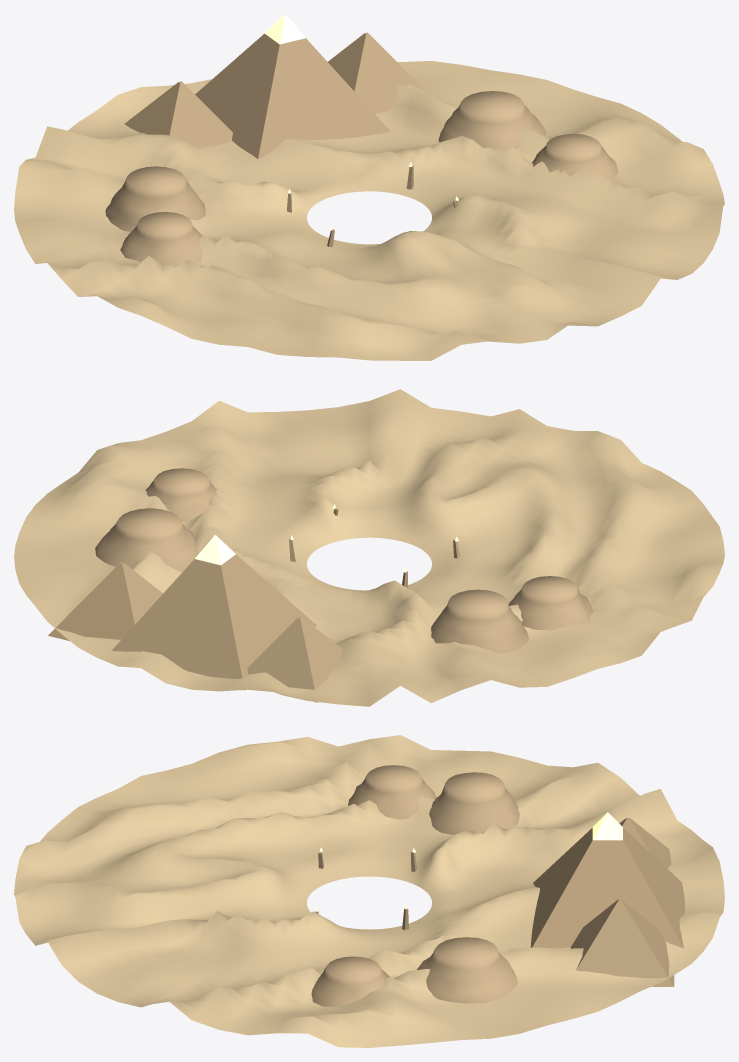
The model's file is BACKDROP.glb.
The picture shows the model from 3 angles, top to bottom: view 1: azimuth 30°, elevation 25°; view 2: azimuth 150°, elevation 25°; view 3: azimuth 270°, elevation 25°; orthographic projection.
Parts seen in each view (by area): view 1: BACKDROP; view 2: BACKDROP; view 3: BACKDROP.
Part boxes in pixels (left/top/right/bottom): BACKDROP: left=14, top=14, right=724, bottom=360; BACKDROP: left=14, top=389, right=724, bottom=706; BACKDROP: left=14, top=735, right=724, bottom=1047.
Size of the model in its own units: 352 by 61.11 by 352.
